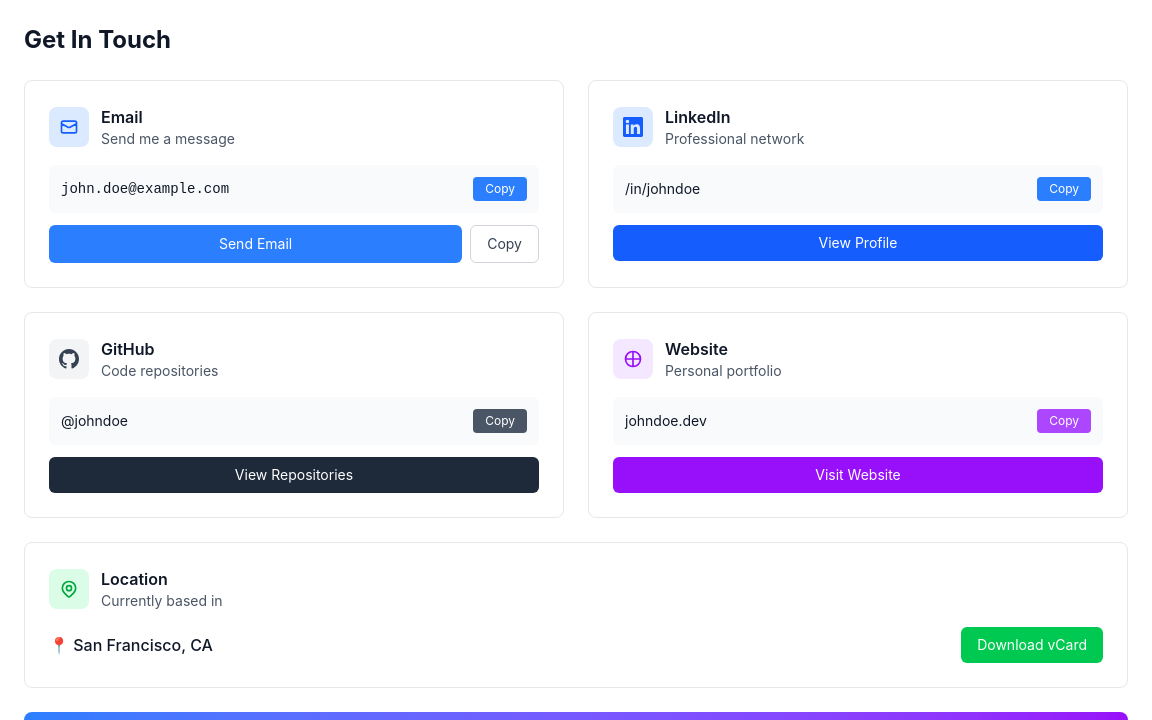
Test: ContactSection › should copy GitHub URL to clipboard
The width and height of the screenshot is (1152, 720).
Click the button titled "Copy GitHub URL" in the row of "@johndoe": (500, 421) [473, 409, 527, 433]
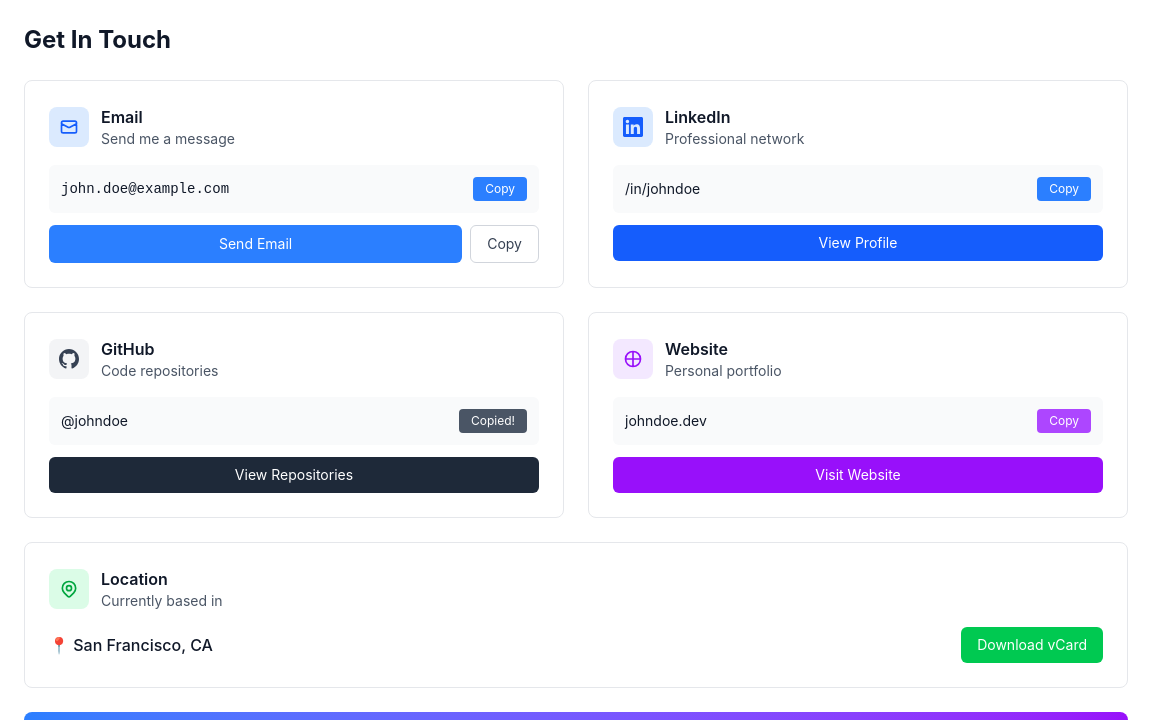
Result: the button "Copied!" is shown at [459, 409, 527, 433]
